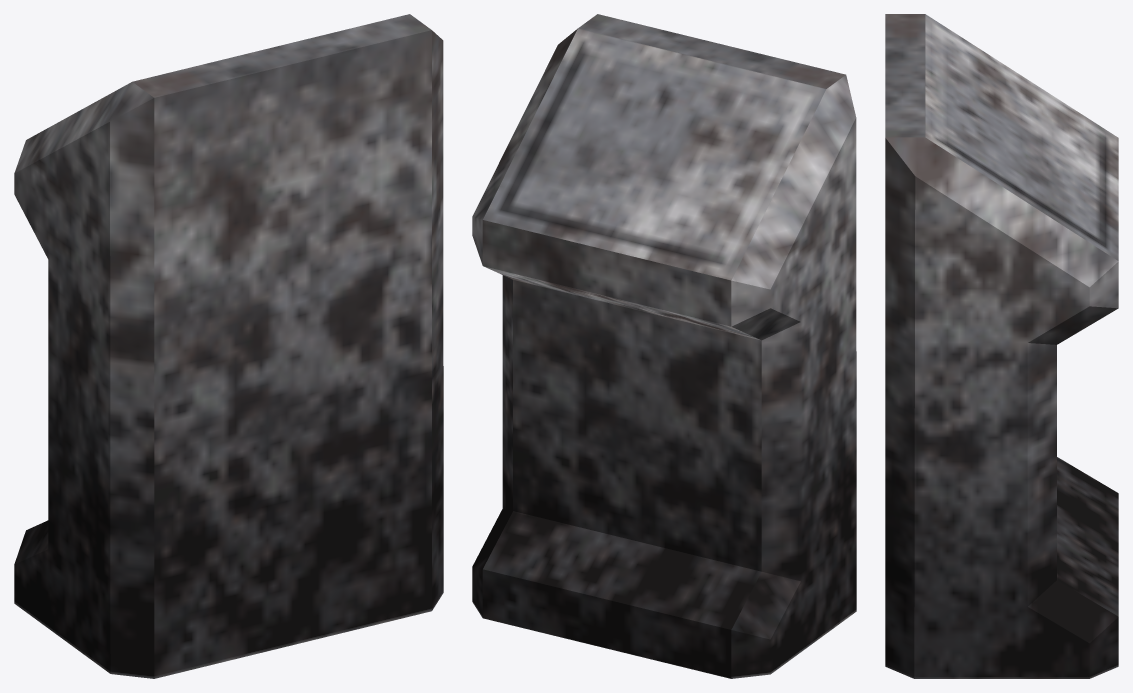
File: Terminal.fbx
3 views of the same model, side by side, from view 1: azimuth 30°, elevation 25°; view 2: azimuth 150°, elevation 25°; view 3: azimuth 270°, elevation 25° (orthographic). The views are drawn at different scales.
Visible parts, largest first — view 1: Terminal; view 2: Terminal; view 3: Terminal.
Boxes of the visible parts, <box> form: Terminal: <box>14,14,443,678</box>; Terminal: <box>472,14,856,678</box>; Terminal: <box>885,14,1118,678</box>.
Bounding box in the file's own units: 60 × 100 × 40.
1 material, 1 textured.
